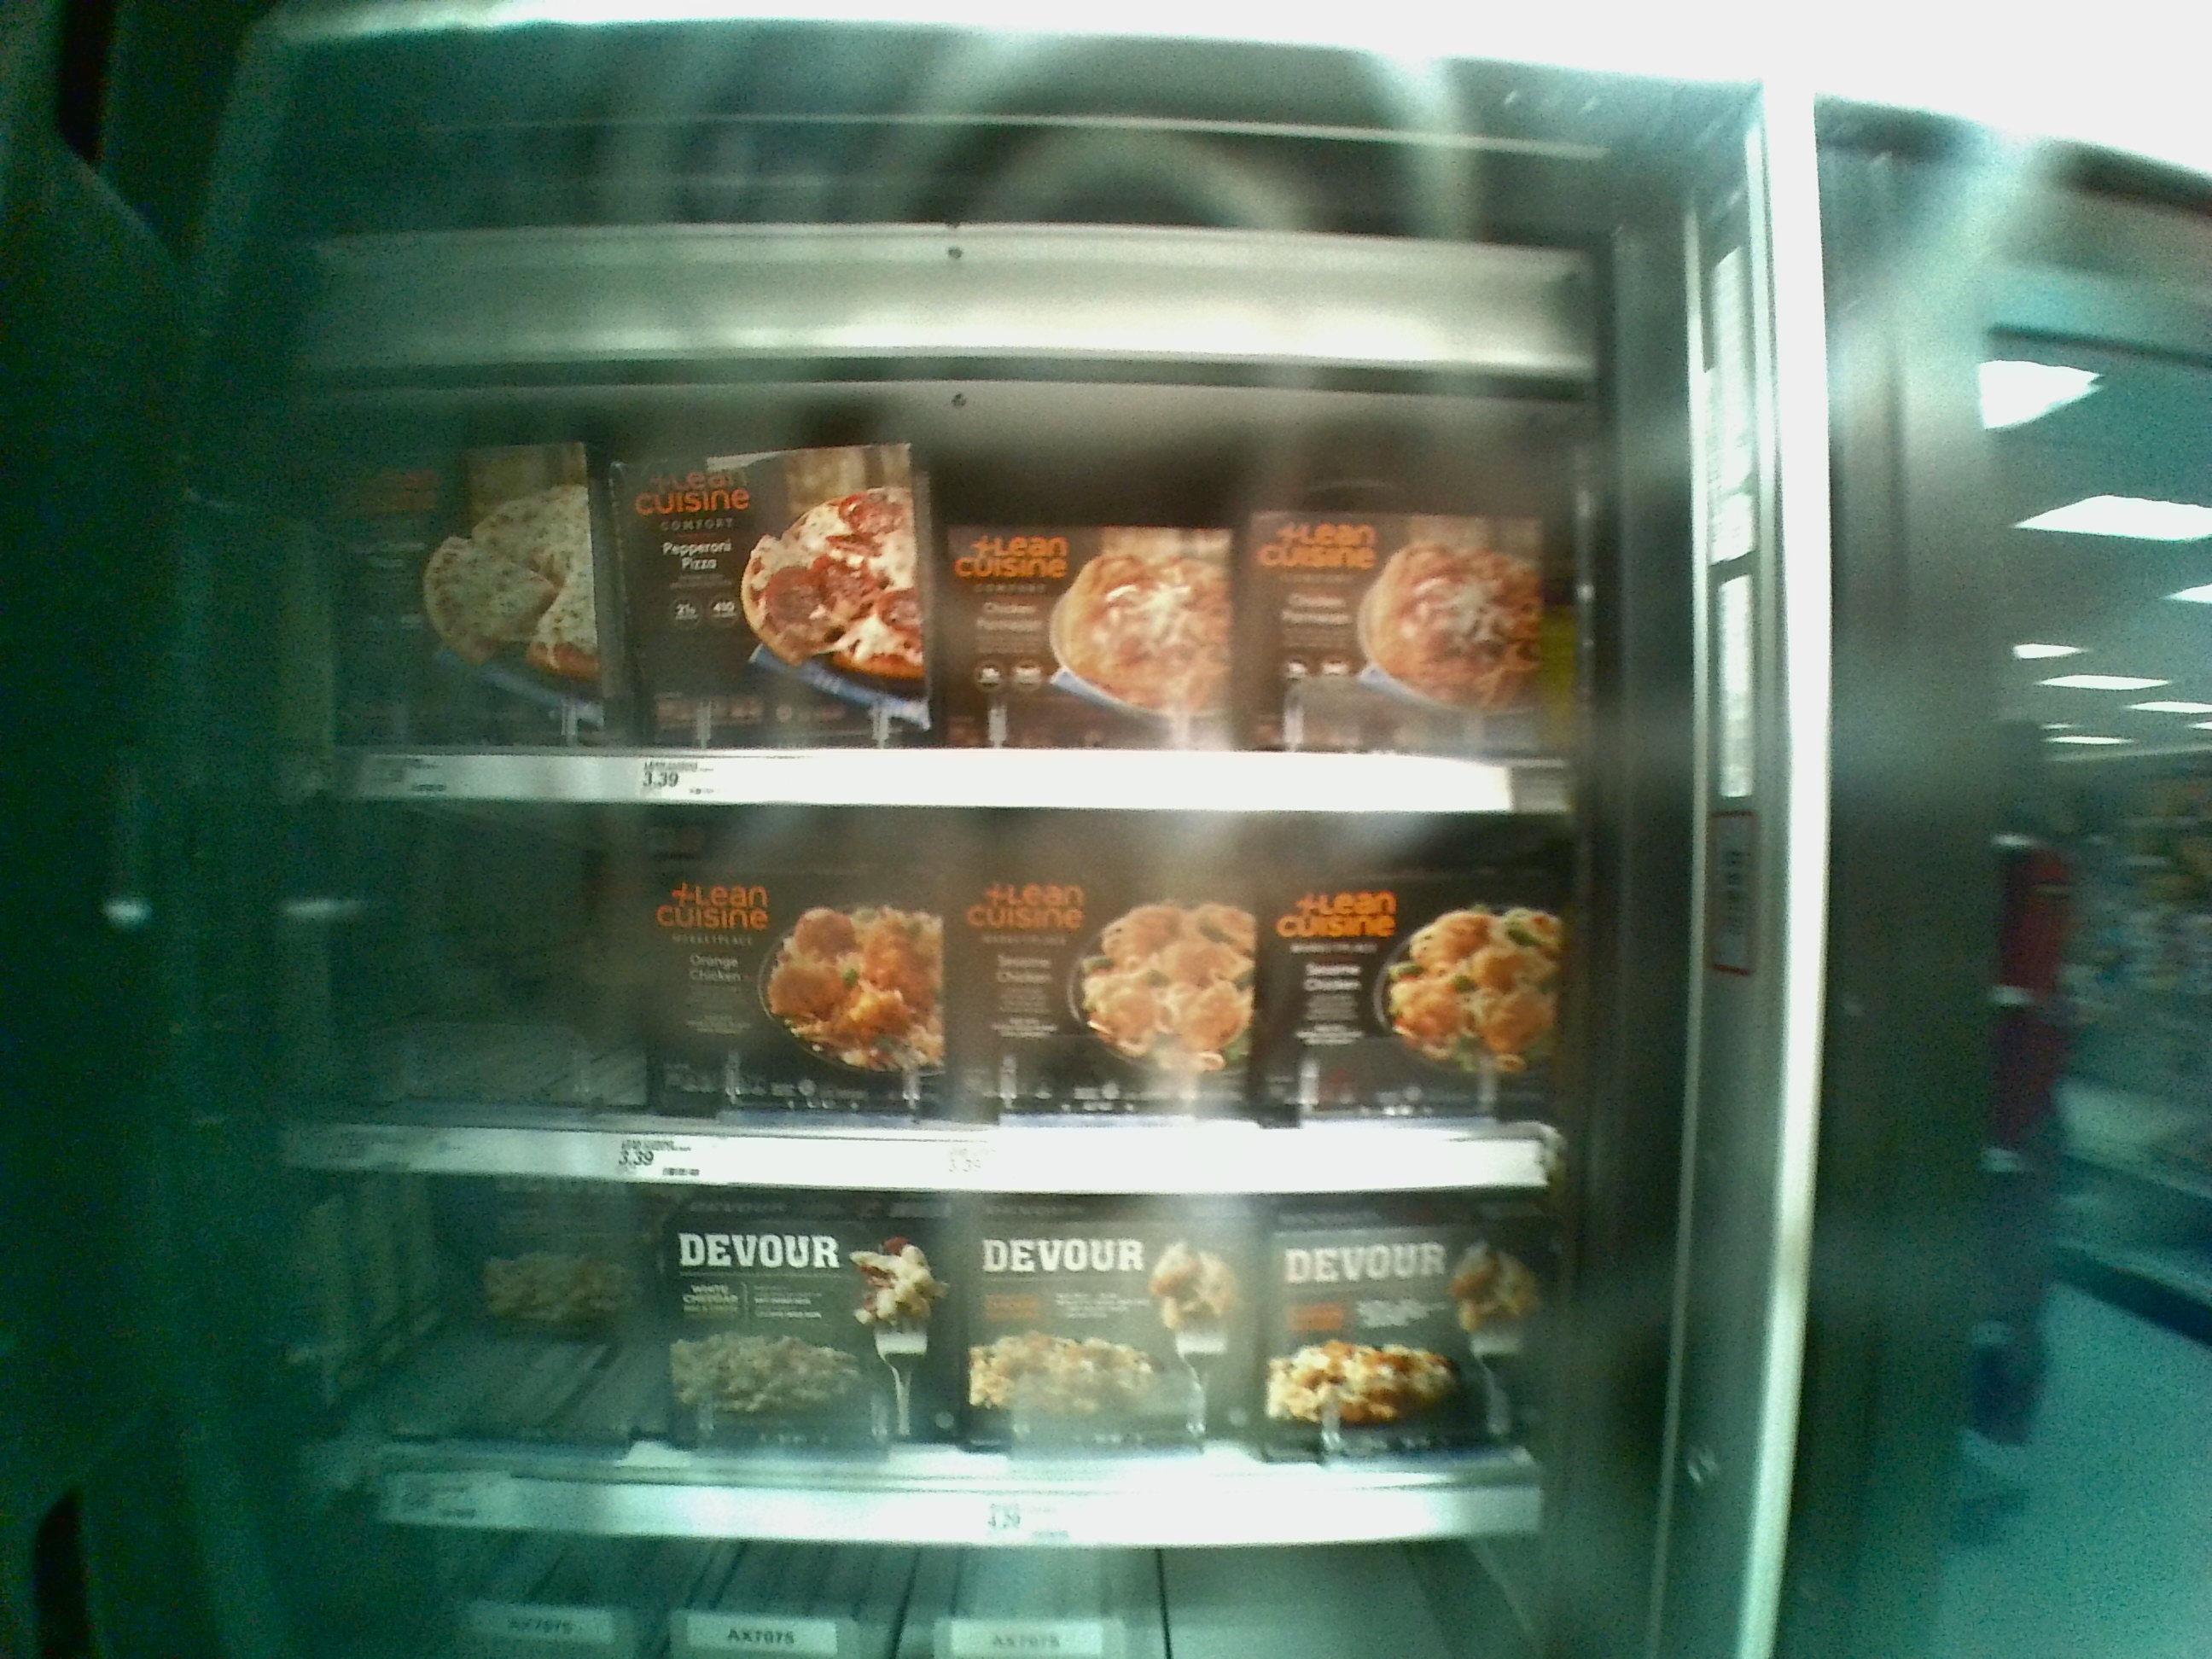shelf: (319, 376, 1571, 807), (289, 1175, 1611, 1554), (320, 803, 1575, 1183)
